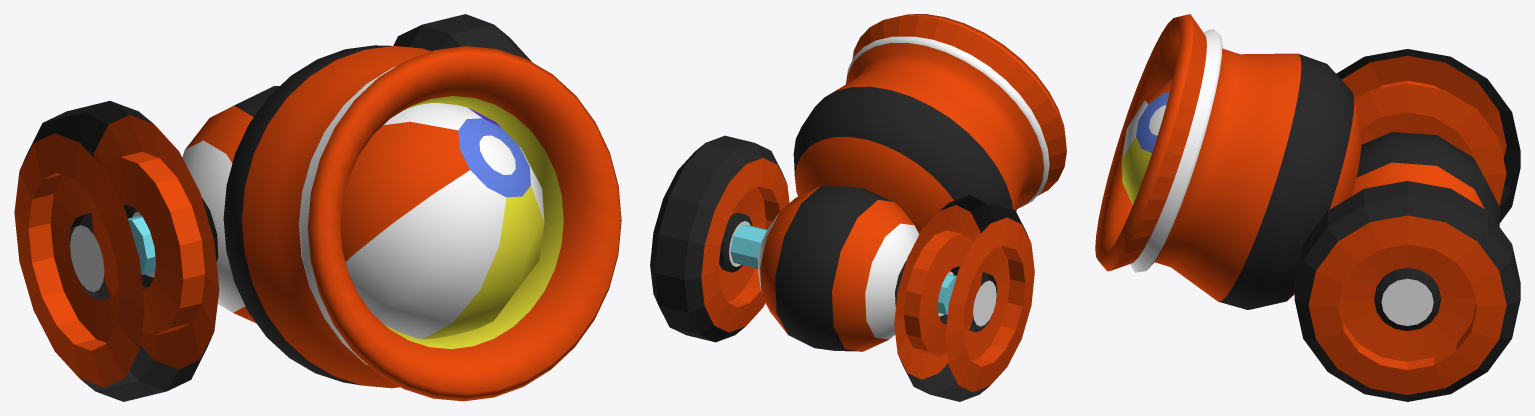
Rendered from trap_canon.fbx.
3 views of the same model, side by side, from view 1: azimuth 30°, elevation 25°; view 2: azimuth 150°, elevation 25°; view 3: azimuth 270°, elevation 25° (orthographic). The views are drawn at different scales.
Visible parts, largest first — view 1: canon_barrel, canon_wheel, canon_bullet; view 2: canon_barrel, canon_wheel; view 3: canon_barrel, canon_wheel, canon_bullet.
Boxes of the visible parts, x1,y1,x2,y2 form: canon_barrel: (182, 45, 621, 401); canon_wheel: (14, 14, 531, 401); canon_bullet: (340, 103, 544, 339); canon_barrel: (757, 14, 1066, 351); canon_wheel: (650, 135, 1034, 401); canon_barrel: (1095, 14, 1500, 309); canon_wheel: (1294, 49, 1520, 401); canon_bullet: (1122, 79, 1172, 204).
Size of the model in its own units: 31.73 by 27.18 by 34.84.
